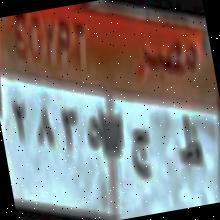2: (9, 98, 34, 148)
3: (58, 106, 86, 158)
5: (80, 111, 106, 161)
8: (30, 100, 61, 157)
Thaa: (171, 108, 207, 178)
jeem: (126, 125, 160, 187)
